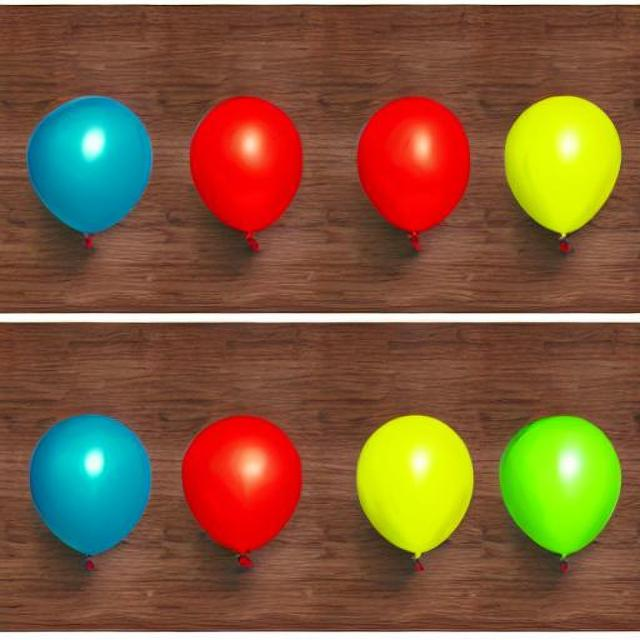balloon: (19, 92, 154, 248), (21, 411, 152, 565), (349, 95, 471, 257), (504, 416, 625, 577), (497, 90, 620, 248), (183, 93, 305, 251), (185, 418, 312, 563), (348, 423, 465, 573)
